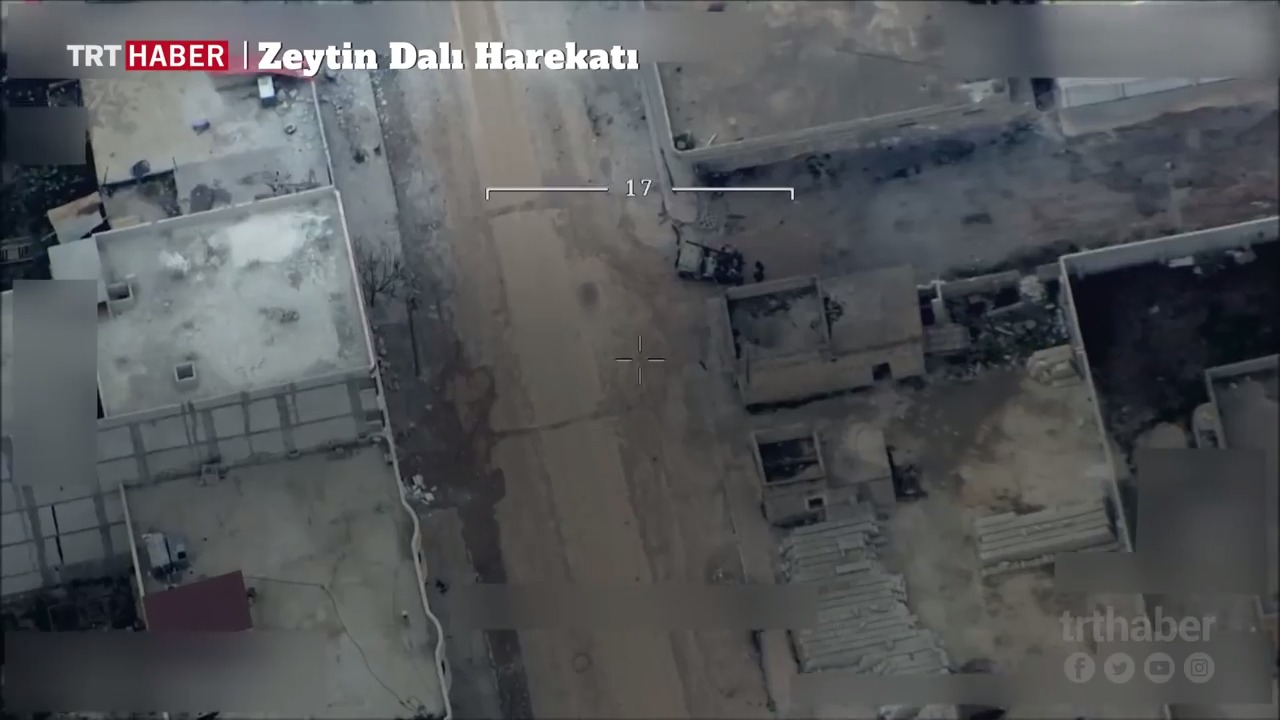arac: (675, 242, 743, 276)
bina: (717, 282, 943, 399), (757, 406, 911, 523)
insan: (749, 256, 766, 280)
